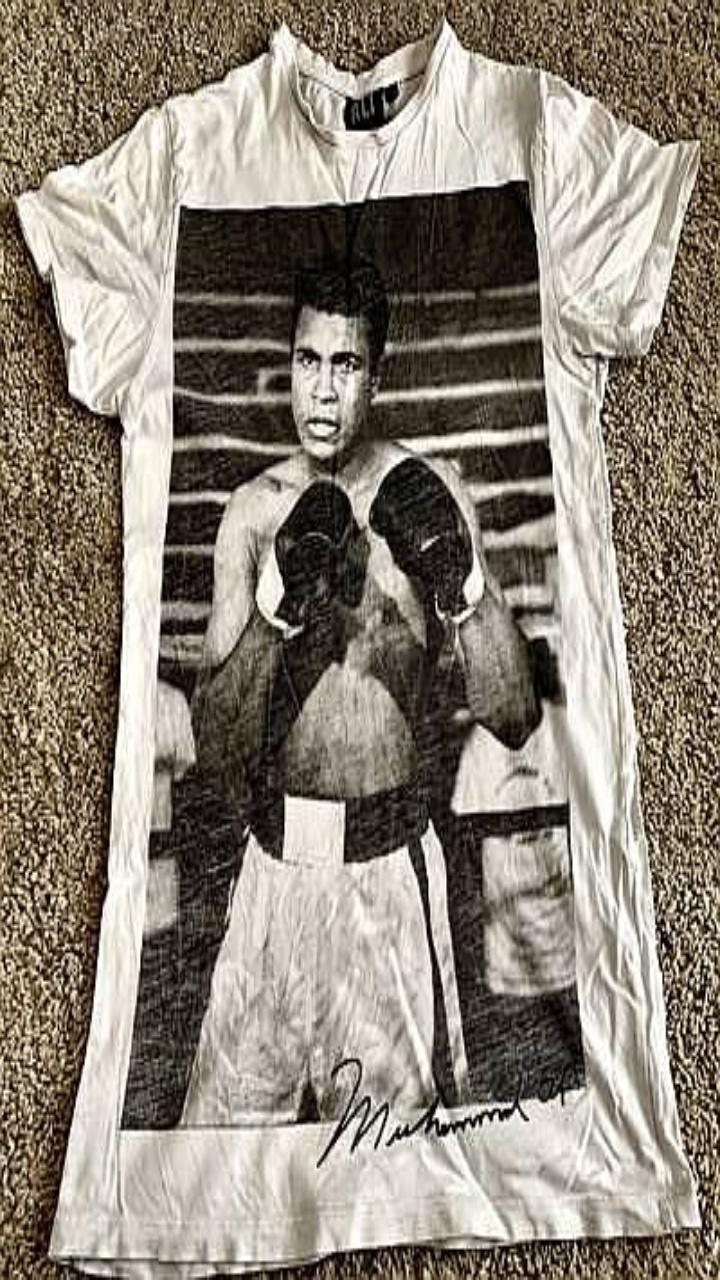T-Shirt: (16, 20, 698, 1277)
